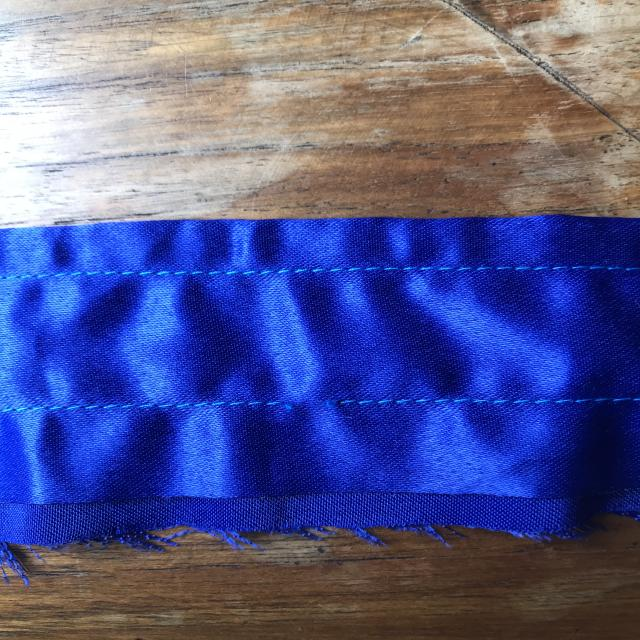broken: (248, 381, 378, 424)
good: (188, 251, 427, 290)
